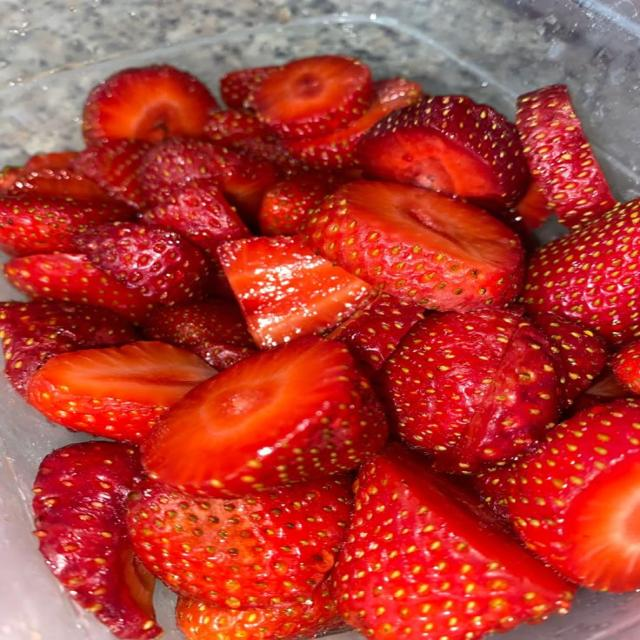strawberry sliced: (333, 443, 575, 639), (143, 336, 386, 496), (482, 399, 639, 591), (127, 475, 351, 609), (380, 309, 559, 471), (300, 181, 523, 311), (33, 442, 162, 639), (359, 96, 528, 210), (27, 341, 216, 442), (218, 236, 375, 348), (522, 199, 639, 345), (516, 85, 616, 227), (140, 180, 252, 298), (0, 301, 138, 394), (286, 79, 422, 170), (139, 139, 277, 225), (74, 222, 211, 305), (83, 64, 218, 144), (251, 55, 373, 138), (4, 253, 152, 321), (176, 584, 343, 639), (140, 181, 251, 259), (328, 293, 425, 377), (142, 299, 255, 370), (0, 195, 133, 255), (534, 314, 607, 405), (142, 299, 254, 348), (73, 139, 151, 208), (258, 174, 333, 236), (7, 169, 112, 201), (571, 366, 637, 414), (205, 109, 278, 145), (220, 66, 278, 109), (508, 179, 553, 232), (187, 339, 255, 370), (374, 77, 424, 109), (612, 340, 639, 394), (22, 151, 78, 173)
